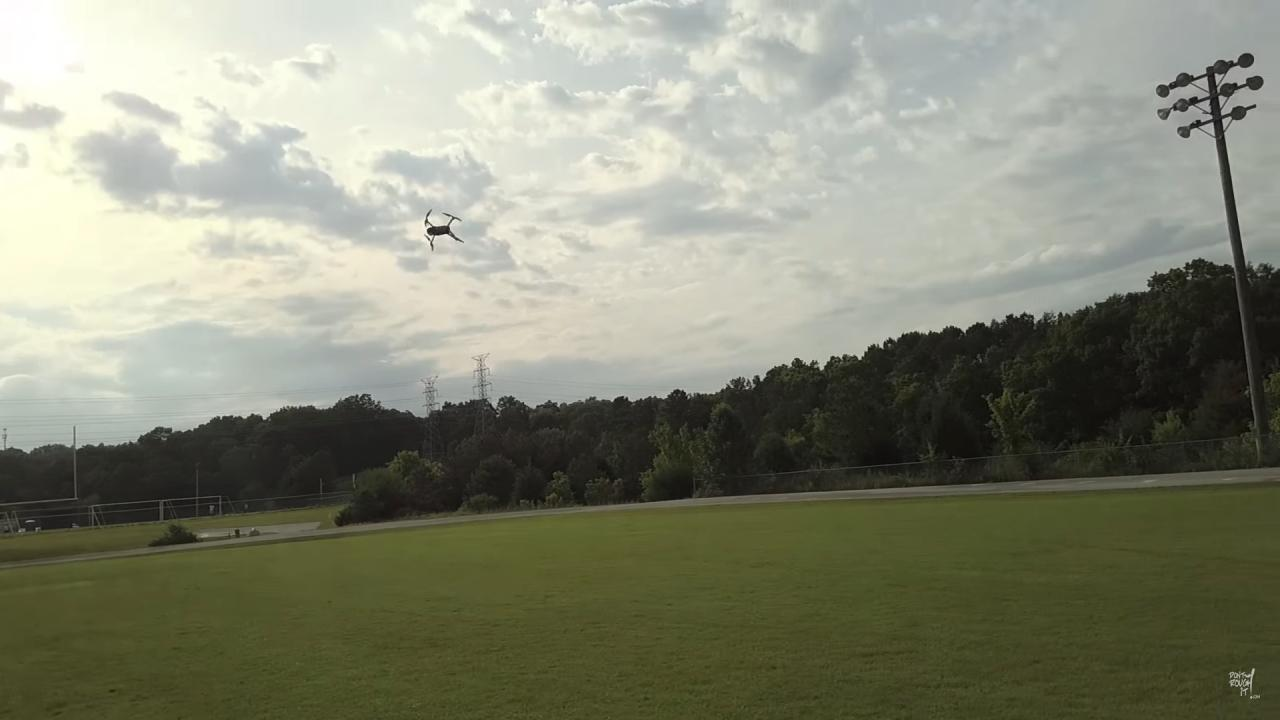Drone: (410, 200, 474, 258)
